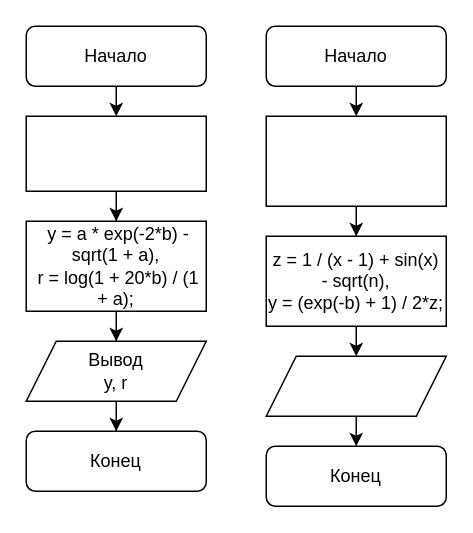
The diagram is 473 pixels wide and 533 high, and some of its shapes have lost their labels. Here are the shapes that lost their labels. From the top down, the centre of each, then its label:
[115,153]: a=1.75 b=4.5*pow(10, -4)
[355,160]: n=2 b=-0.12 x=1.3*pow(10, -4)
[355,385]: Вывод z, y
